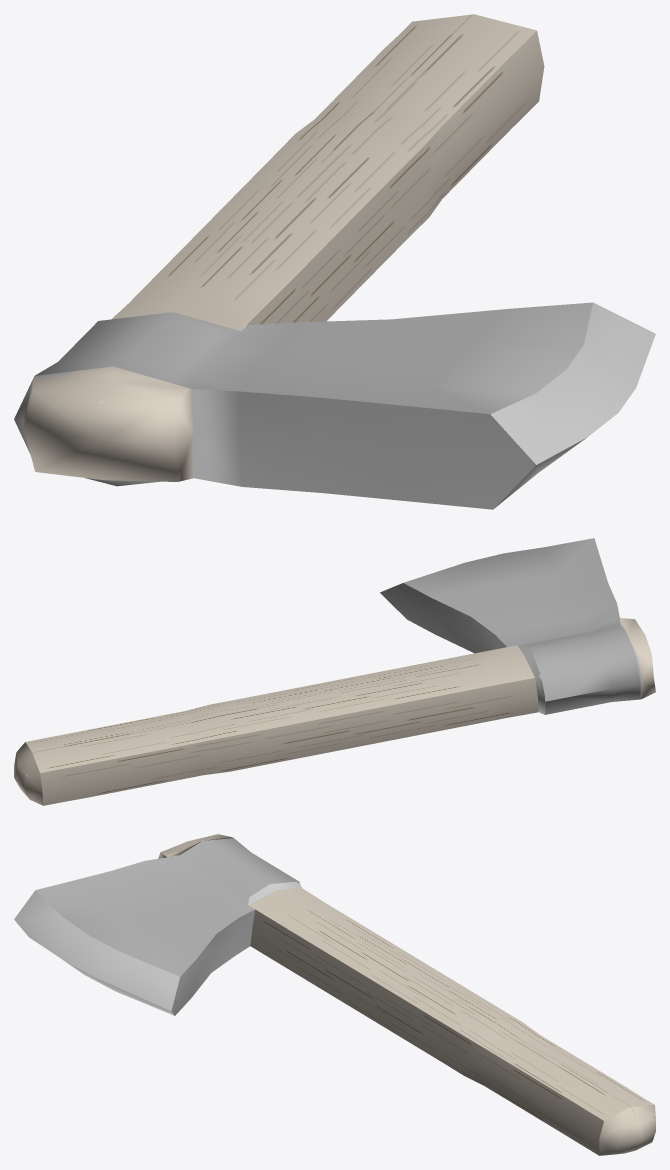
Rendered from axe.fbx.
3 views of the same model, one above another, from view 1: azimuth 30°, elevation 25°; view 2: azimuth 150°, elevation 25°; view 3: azimuth 270°, elevation 25° (orthographic). The views are drawn at different scales.
Visible parts, largest first — view 1: Axe; view 2: Axe; view 3: Axe.
Boxes of the visible parts, x1,y1,x2,y2 form: Axe: [14, 14, 655, 509]; Axe: [14, 538, 655, 805]; Axe: [14, 834, 655, 1155].
Bounding box in the file's own units: 106 × 26.83 × 127.
